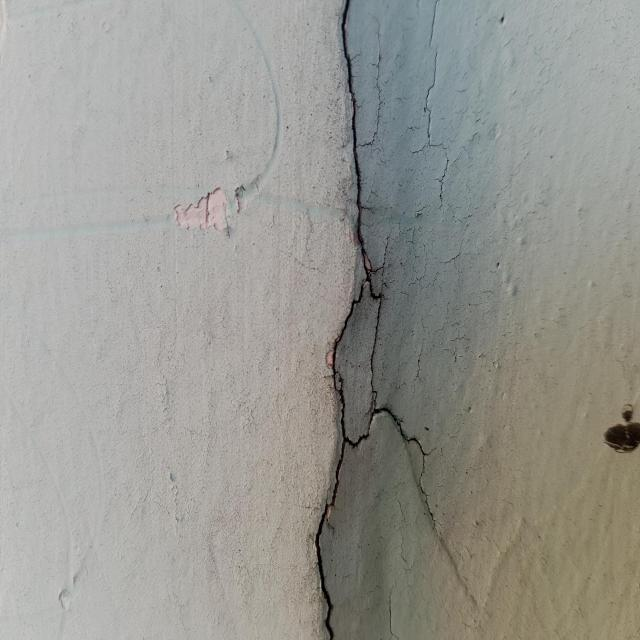SurfaceCrack: (273, 0, 486, 640)
